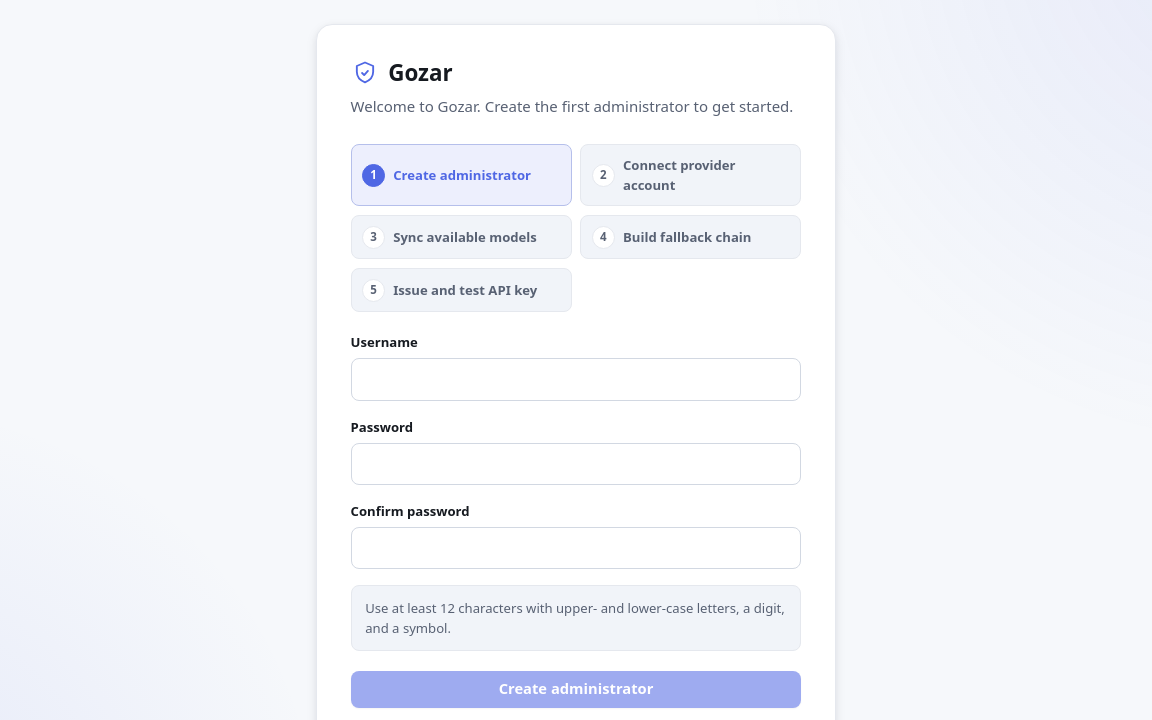
LoginPage bootstrap gate (first-run setup) › keeps the create action disabled while the passwords do not match
Expected: the button "Create administrator" is shown, [351,670,801,708]
Type "admin" into the field labelled "Username" at (576, 380), box [351,358,801,401]
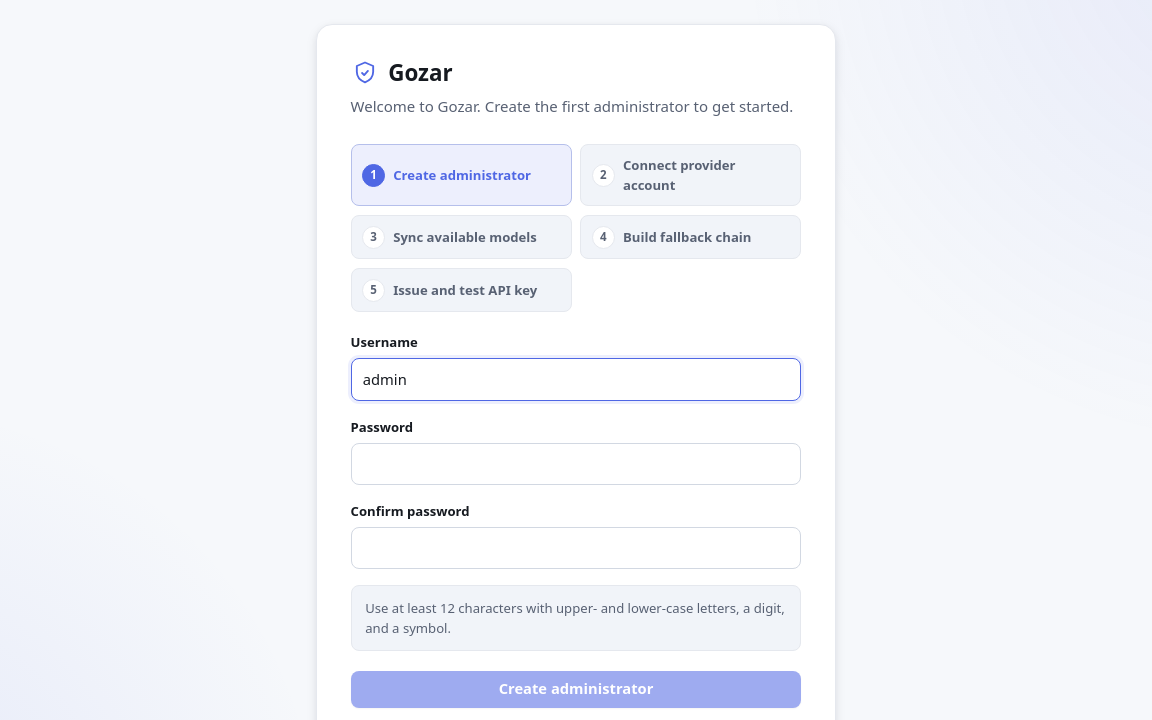
Type "Sup3r$ecretPwd!" into the password field labelled "Password" at (576, 464), box [351,443,801,485]
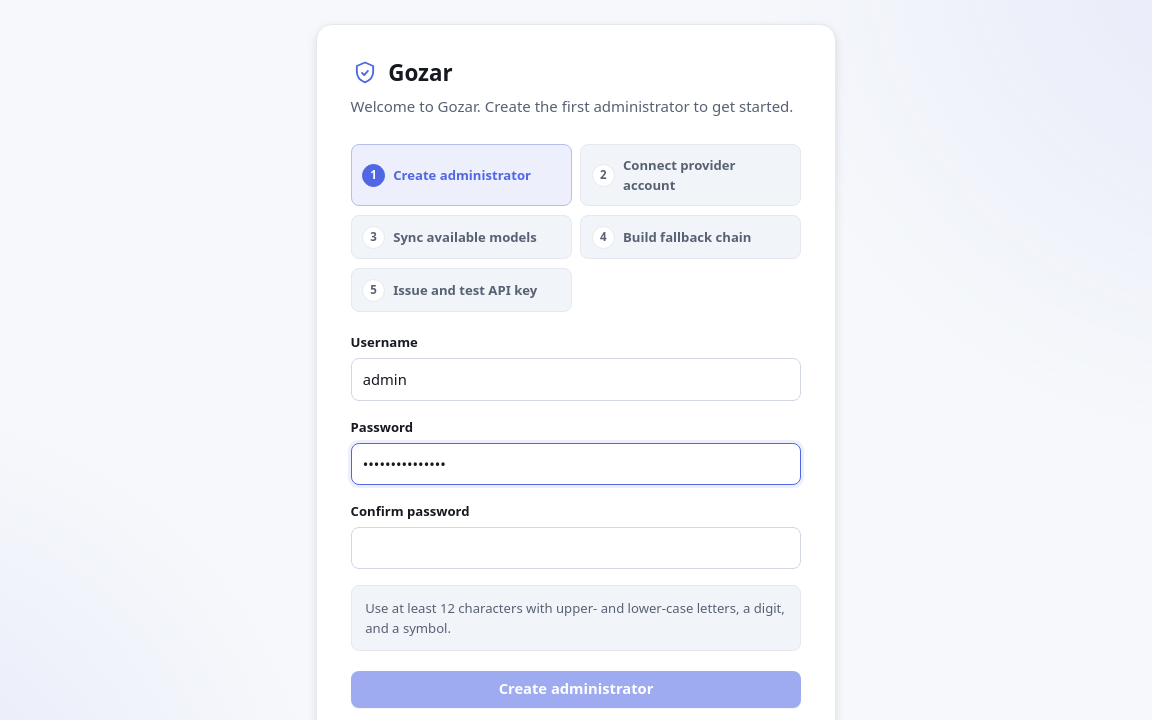
Type "different" into the password field labelled "Confirm password" at (576, 548), box [351,527,801,570]
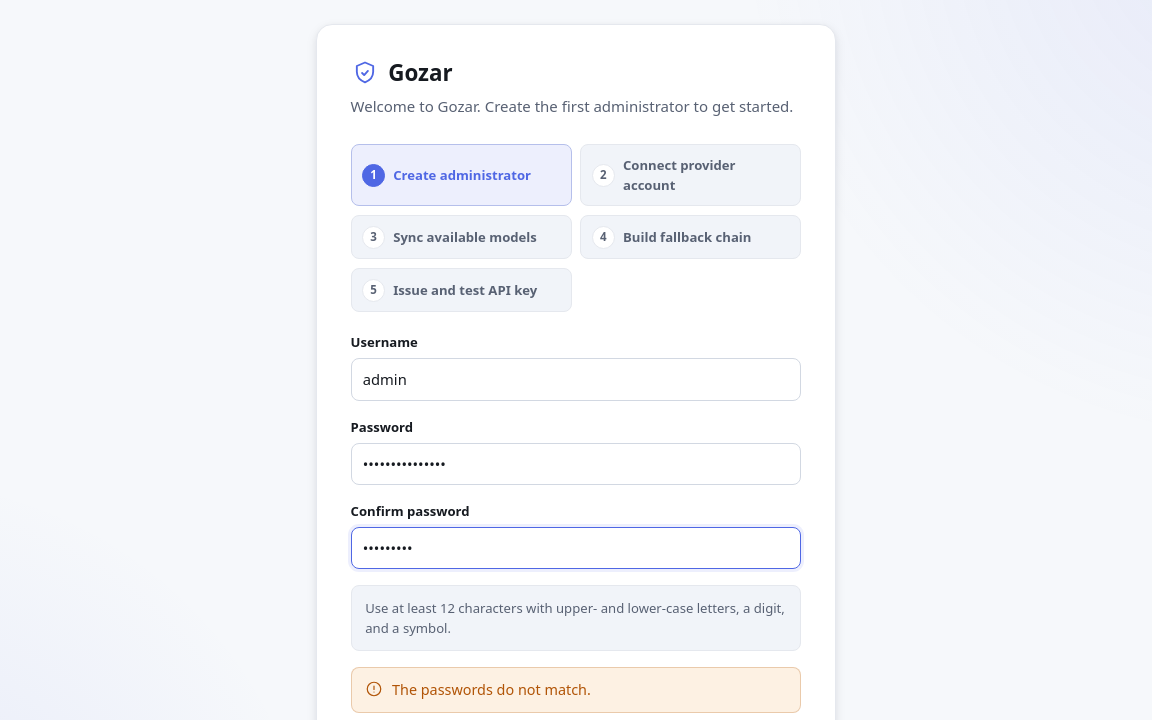
Now the text "The passwords do not match." is shown, box [392,679,591,701]
